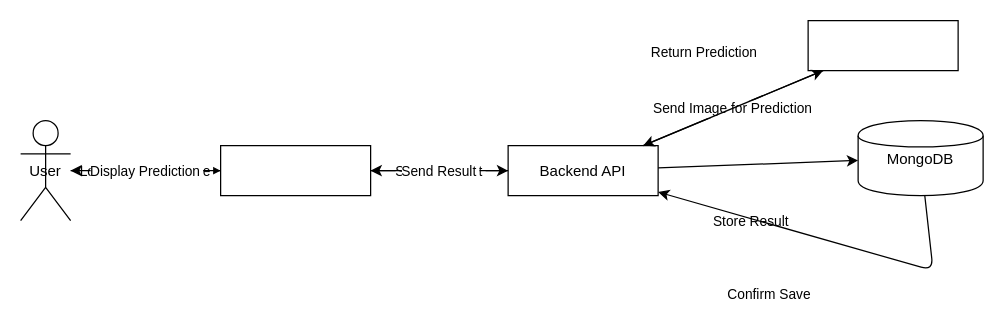
Some shapes in this 1004 by 324 pixel diagram are drawn without their labels. The centre of each missing label's shape, as x and y in pixels:
Frontend (React): (295,170)
ML Model: (882,45)
